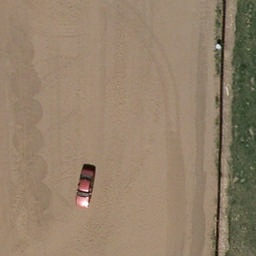car: (75, 167, 96, 212)
